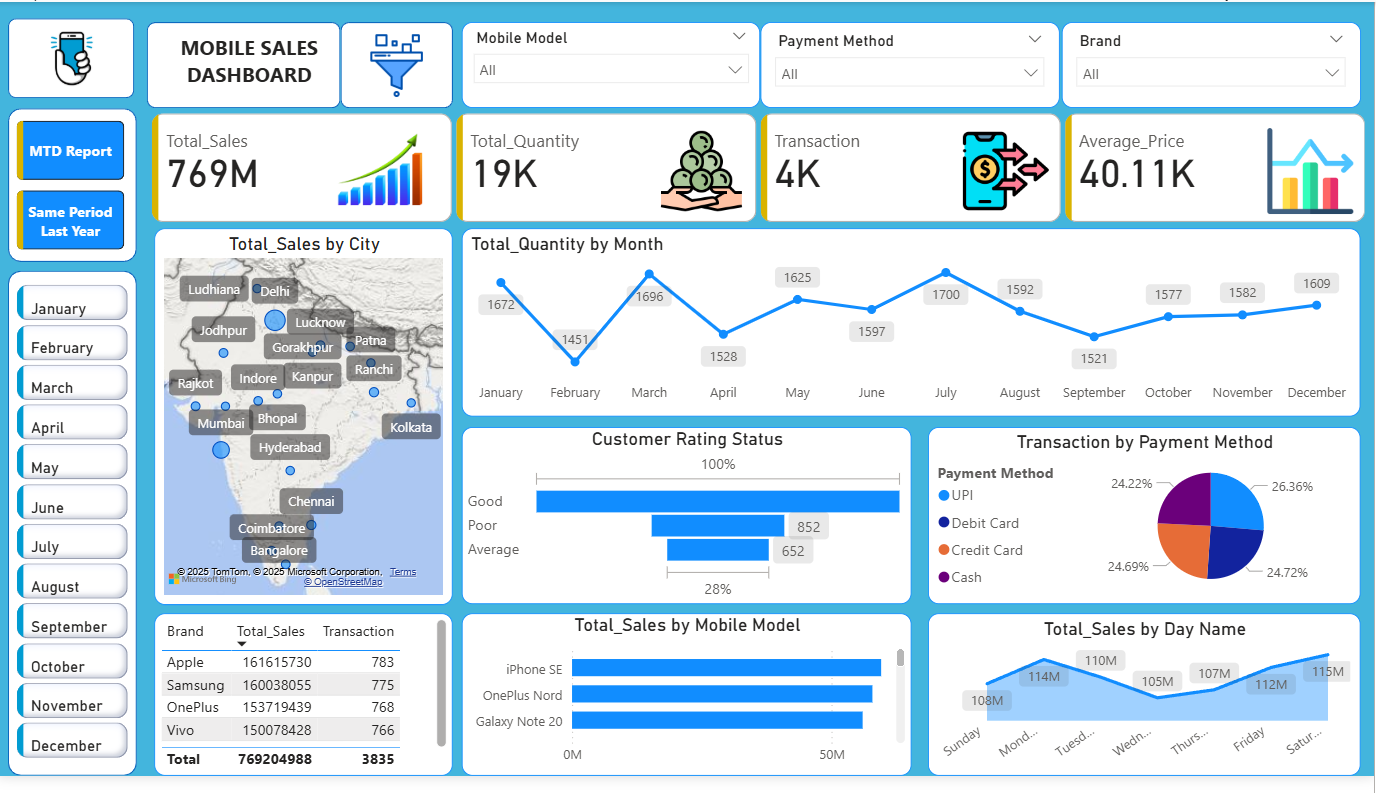

The dashboard page shown, as its layout file describes it:
{"tool":"powerbi","page":{"name":"Dashboard","canvas":[1280,720],"ordinal":0},"visuals":[{"type":"shape","box":[9.3,15.1,117.4,74.4],"z":0},{"type":"image","box":[31.4,15.1,74.4,74.4],"z":1000},{"type":"shape","box":[9.3,98.8,119.8,143],"z":2000},{"type":"shape","box":[9.3,250,119.8,469.8],"z":3000},{"type":"advancedSlicerVisual","fields":{"Values":["Custom_Calendar.Date.Variation.Date Hierarchy.Month"]},"box":[12.8,258.1,114,461.6],"z":4000},{"type":"cardVisual","fields":{"Data":["Sales_Data.Total_Sales","Sales_Data.Total_Quantity","Sales_Data.Transaction","Sales_Data.Average_Price"]},"box":[138.4,98.8,1141.9,111.6],"z":5000},{"type":"slicer","fields":{"Values":["Sales_Data.Payment Method"]},"box":[709.3,18.6,278,80.2],"z":6000},{"type":"slicer","fields":{"Values":["Sales_Data.Brand"]},"box":[989.5,18.6,278,80.2],"z":7000},{"type":"slicer","fields":{"Values":["Sales_Data.Mobile Model"]},"box":[431.4,18.6,277.9,80.2],"z":8000},{"type":"shape","box":[318.6,18.6,104.7,80.2],"z":9000},{"type":"image","box":[325.6,24.4,90.7,69.8],"z":10000},{"type":"shape","box":[138.4,18.6,180.2,80.2],"z":11000},{"type":"textbox","box":[160.5,24.4,146.5,65.1],"z":12000},{"type":"map","fields":{"Category":["Sales_Data.City"],"Size":["Sales_Data.Total_Sales"]},"box":[145.3,210.5,277.9,350],"z":13000},{"type":"lineChart","fields":{"Category":["Custom_Calendar.Date.Variation.Date Hierarchy.Month"],"Y":["Sales_Data.Total_Quantity"]},"box":[431.4,210.5,836,175.6],"z":14000},{"type":"funnel","title":"Customer Rating Status","fields":{"Category":["Sales_Data.Rating Status"],"Y":["CountNonNull(Sales_Data.Customer Ratings)"]},"box":[431.4,395.3,418.6,165.1],"z":15000},{"type":"pieChart","fields":{"Y":["Sales_Data.Transaction"],"Category":["Sales_Data.Payment Method"]},"box":[865.1,395.3,402.3,165.1],"z":16000},{"type":"clusteredBarChart","fields":{"Category":["Sales_Data.Mobile Model"],"Y":["Sales_Data.Total_Sales"]},"box":[431.4,568.6,418.6,151.2],"z":17000},{"type":"areaChart","fields":{"Category":["Custom_Calendar.Day Name"],"Y":["Sales_Data.Total_Sales"]},"box":[865.1,568.6,402.3,151.2],"z":18000},{"type":"tableEx","fields":{"Values":["Sales_Data.Brand","Sales_Data.Total_Sales","Sales_Data.Transaction"]},"box":[145.3,568.6,277.9,151.2],"z":19000},{"type":"pageNavigator","box":[17.4,110.5,100,120.9],"z":19001}]}

Visuals, with their boxes in screenshot pixels (x1, y1, x2, y2), scaled from the page's 1280x720 canvas onto the 1376x793 screenshot:
shape: [10,17,136,99]
image: [34,17,114,99]
shape: [10,109,139,266]
shape: [10,275,139,792]
advancedSlicerVisual - Custom_Calendar.Date.Variation.Date Hierarchy.Month: [14,284,136,792]
cardVisual - Sales_Data.Total_Sales x Sales_Data.Total_Quantity: [149,109,1375,232]
slicer - Sales_Data.Payment Method: [762,20,1061,109]
slicer - Sales_Data.Brand: [1064,20,1363,109]
slicer - Sales_Data.Mobile Model: [464,20,762,109]
shape: [342,20,455,109]
image: [350,27,448,104]
shape: [149,20,342,109]
textbox: [173,27,330,99]
map - Sales_Data.City x Sales_Data.Total_Sales: [156,232,455,617]
lineChart - Custom_Calendar.Date.Variation.Date Hierarchy.Month x Sales_Data.Total_Quantity: [464,232,1362,425]
"Customer Rating Status" funnel: [464,435,914,617]
pieChart - Sales_Data.Transaction x Sales_Data.Payment Method: [930,435,1362,617]
clusteredBarChart - Sales_Data.Mobile Model x Sales_Data.Total_Sales: [464,626,914,792]
areaChart - Custom_Calendar.Day Name x Sales_Data.Total_Sales: [930,626,1362,792]
tableEx - Sales_Data.Brand x Sales_Data.Total_Sales: [156,626,455,792]
pageNavigator: [19,122,126,255]
